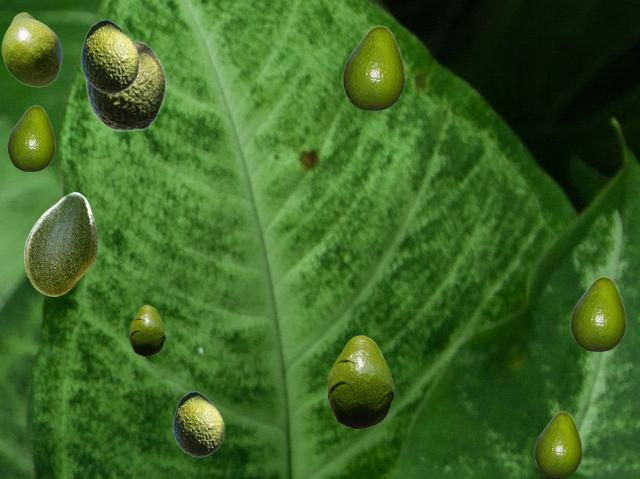avocado: (24, 192, 96, 295), (85, 41, 165, 130), (327, 335, 393, 428), (342, 25, 404, 109), (1, 12, 61, 86), (80, 19, 138, 93), (570, 276, 625, 350), (172, 391, 223, 456), (7, 105, 54, 170), (534, 411, 581, 476), (129, 305, 164, 355)
